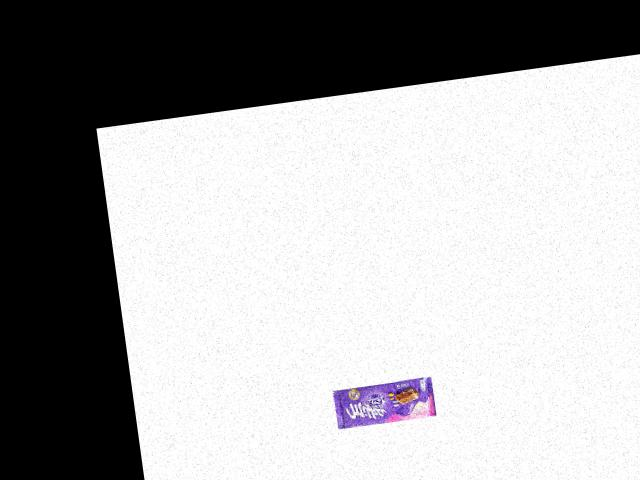chocolate: (331, 375, 436, 430)
